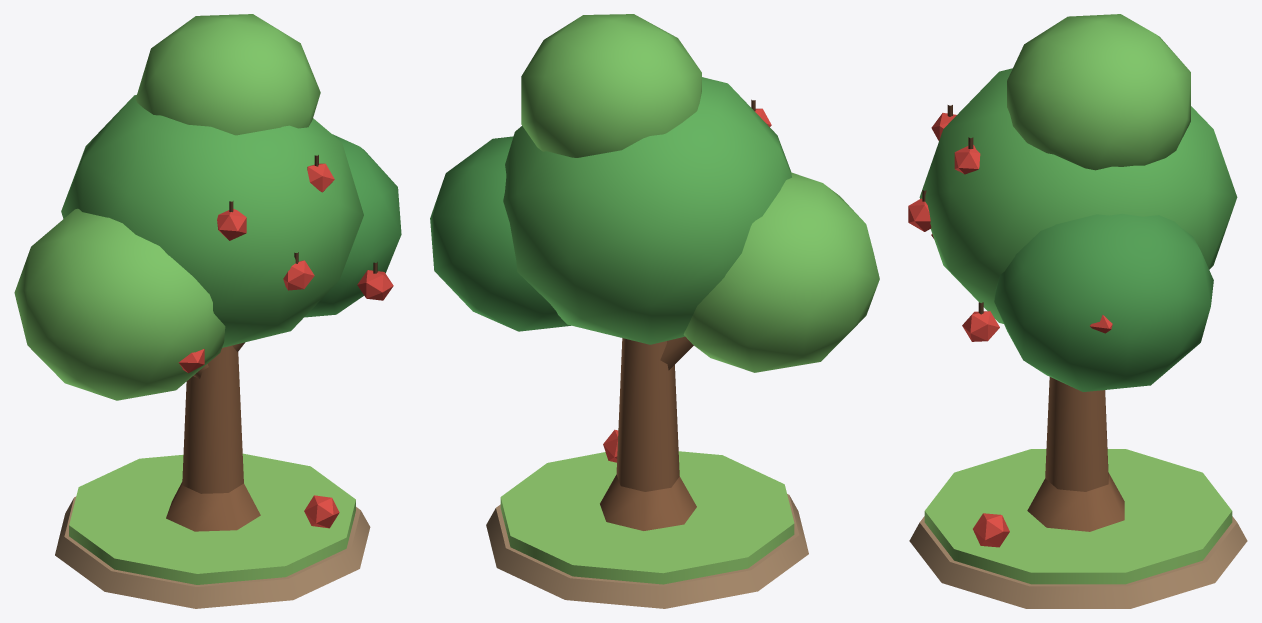
Rendered from apple_tree.glb.
3 renders of one model, left to right at view 1: azimuth 30°, elevation 25°; view 2: azimuth 150°, elevation 25°; view 3: azimuth 270°, elevation 25°, orthographic. The views are drawn at different scales.
Parts seen in each view (by area): view 1: crown_main, crown_left, grass_disc, crown_top, soil_disc, trunk, crown_right, trunk_flare, apple_fallen, apple_2, apple_4, apple_0 (+1 smaller); view 2: crown_main, grass_disc, crown_left, crown_top, crown_right, soil_disc, trunk, trunk_flare, branch_left; view 3: crown_main, crown_right, grass_disc, crown_top, soil_disc, trunk, trunk_flare, apple_fallen, apple_2, apple_3, apple_0.
Part boxes in pixels (x1,y1,x2,y2): crown_main: (61,95,363,347); crown_left: (14,208,225,400); grass_disc: (69,453,355,584); crown_top: (135,14,320,135); soil_disc: (55,496,370,608); trunk: (182,345,243,493); crown_right: (304,134,401,317); trunk_flare: (166,482,260,531); apple_fallen: (304,495,339,528); apple_2: (357,270,393,300); apple_4: (217,209,246,240); apple_0: (283,260,314,290); crown_main: (503,77,791,344); grass_disc: (500,451,794,584); crown_left: (683,172,879,372); crown_top: (521,14,701,157); crown_right: (430,136,570,331); soil_disc: (486,494,808,608); trunk: (616,338,679,491); trunk_flare: (600,474,696,530); branch_left: (660,336,693,370); crown_main: (919,68,1237,323); crown_right: (994,213,1213,391); grass_disc: (924,449,1232,584); crown_top: (1007,14,1190,170); soil_disc: (909,516,1247,608); trunk: (1045,377,1108,491); trunk_flare: (1027,473,1124,531); apple_fallen: (973,513,1009,547); apple_2: (962,311,999,341); apple_3: (954,145,980,174); apple_0: (908,198,931,231).
Bounding box in the file's own units: 1.81 × 2.29 × 1.32.
